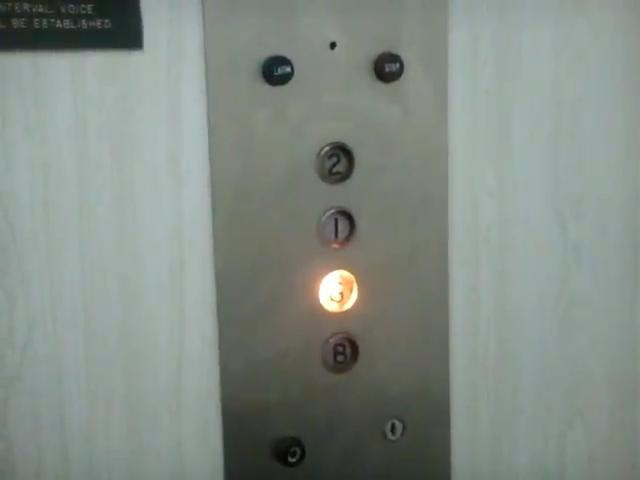1: (315, 205, 360, 252)
2: (313, 139, 358, 186)
B: (317, 330, 362, 377)
G: (315, 268, 360, 315)
text_blur: (259, 52, 296, 88), (370, 48, 407, 84)
